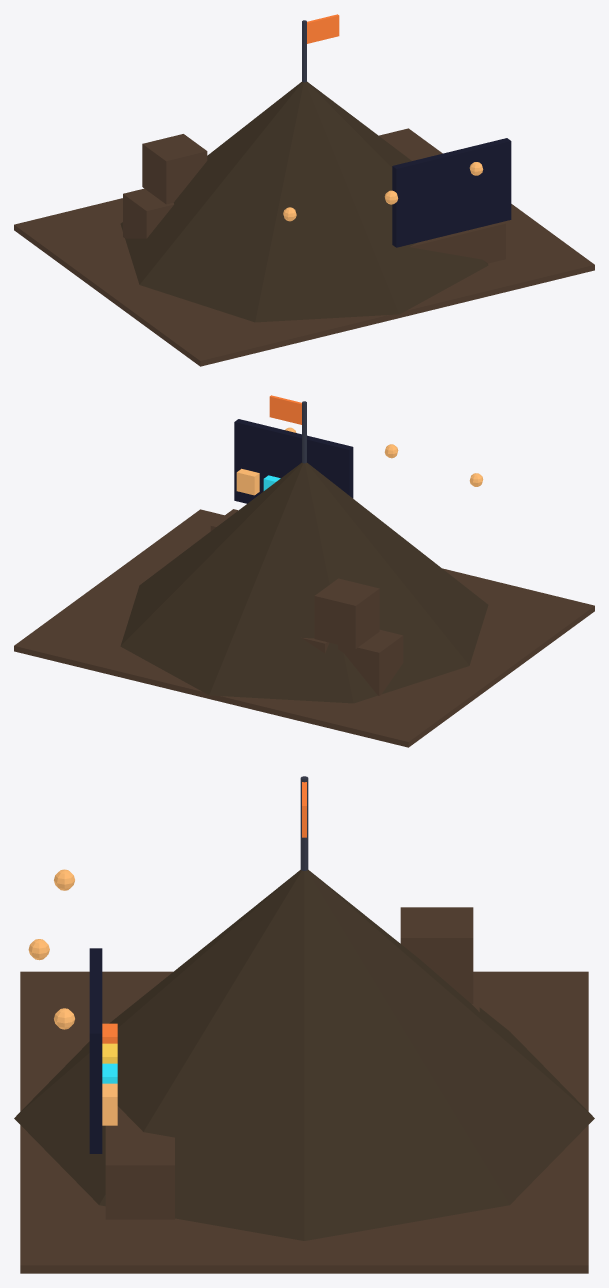
Rendered from hardware-transformed.glb.
3 renders of one model, top to bottom at view 1: azimuth 30°, elevation 25°; view 2: azimuth 150°, elevation 25°; view 3: azimuth 270°, elevation 25°, orthographic. The views are drawn at different scales.
Parts seen in each view (by area): view 1: park_canvas, park_wood, park_dark, park_neon_orange, park_neon_warm; view 2: park_canvas, park_wood, park_dark, park_neon_warm, park_neon_orange; view 3: park_canvas, park_wood, park_dark, park_neon_warm.
Boxes of the visible parts, box(x1,y1,x2,y2) form: park_canvas: box(120, 81, 488, 322); park_wood: box(14, 128, 594, 366); park_dark: box(392, 138, 511, 247); park_neon_orange: box(307, 14, 339, 43); park_neon_warm: box(283, 162, 483, 221); park_canvas: box(120, 462, 488, 703); park_wood: box(14, 509, 594, 747); park_dark: box(234, 419, 353, 503); park_neon_warm: box(236, 427, 483, 495); park_neon_orange: box(269, 395, 301, 424); park_canvas: box(14, 869, 594, 1240); park_wood: box(20, 907, 588, 1273); park_dark: box(89, 948, 102, 1153); park_neon_warm: box(28, 869, 117, 1125).
Size of what is drawn, in the model's own units: 11 by 6.1 by 9.2.
